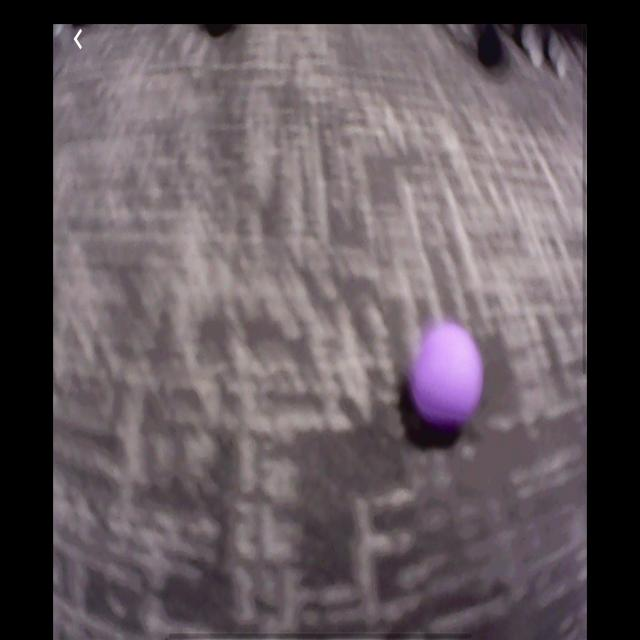ball: (414, 321, 484, 427)
